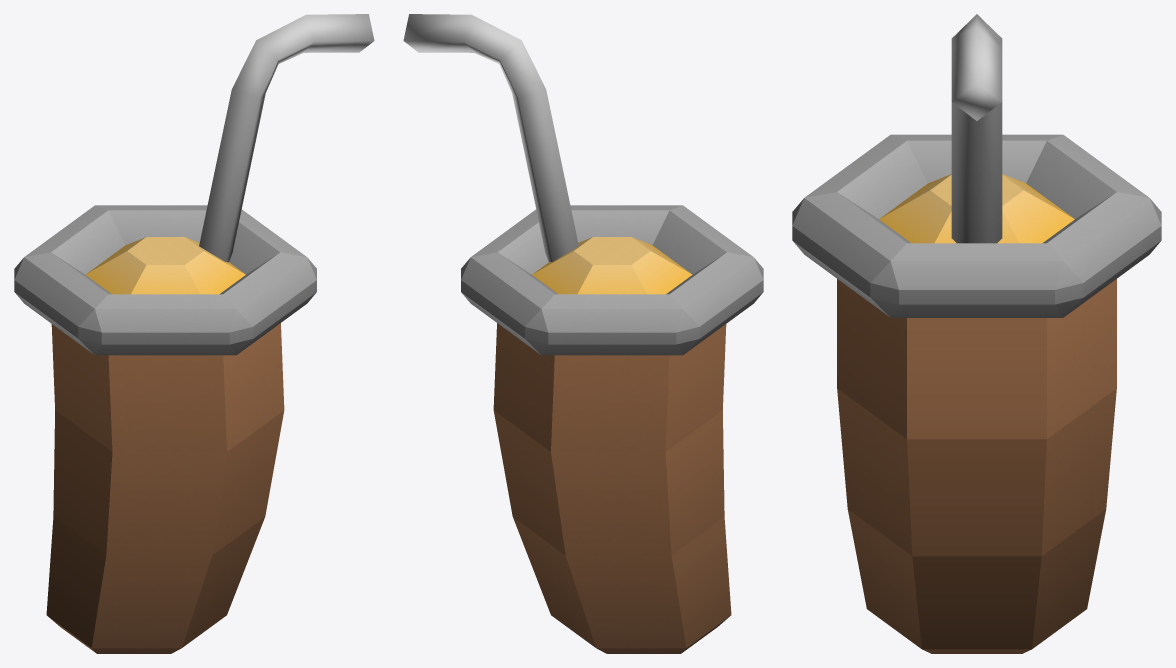
The model's file is terere.fbx.
The picture shows the model from 3 angles, left to right: view 1: azimuth 30°, elevation 25°; view 2: azimuth 150°, elevation 25°; view 3: azimuth 270°, elevation 25°; orthographic projection. The views are drawn at different scales.
Visible parts, largest first — view 1: terere; view 2: terere; view 3: terere.
Part boxes in pixels (box(x1,y1,x2,y2)): terere: box(14, 14, 374, 653); terere: box(403, 14, 763, 653); terere: box(792, 14, 1161, 653).
Bounding box in the file's own units: 34.41 × 58.15 × 27.96.
Materials: 1 (1 with a texture image).
